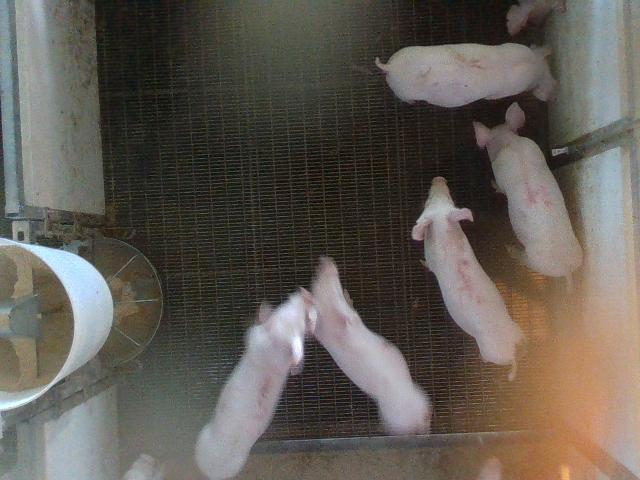pig-3: (195, 289, 312, 479)
pig-4: (474, 102, 582, 284)
pig-5: (411, 178, 524, 376)
